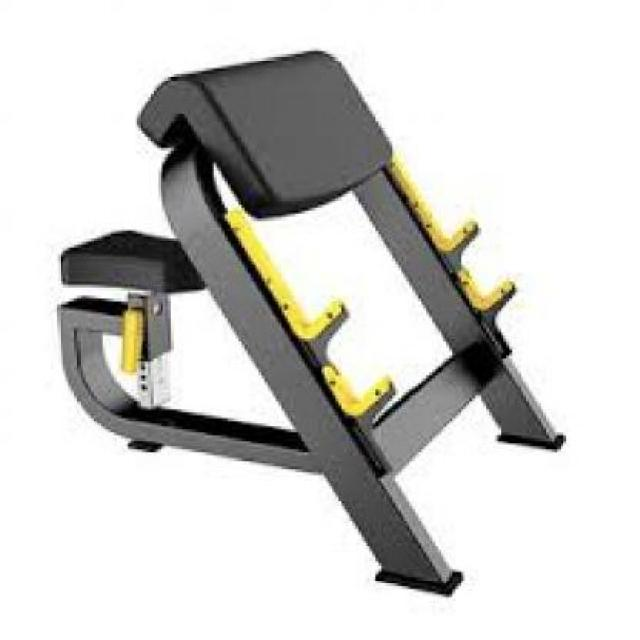arm curl machine: (55, 49, 571, 598)
